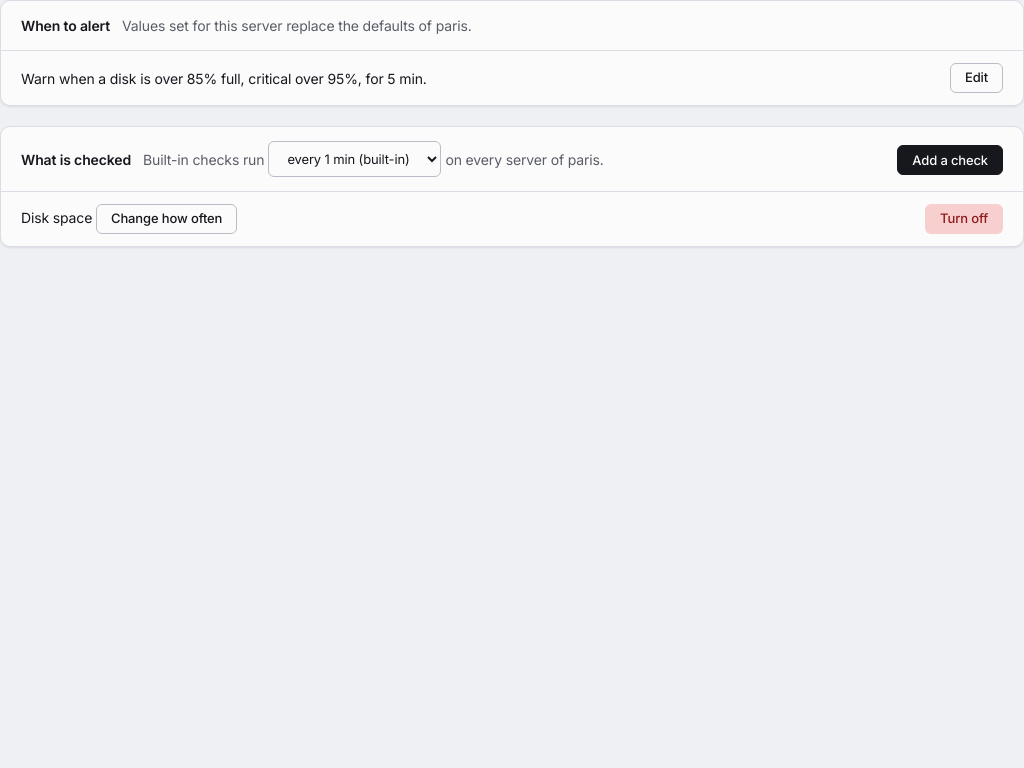
Test: MonitoringSettings › runs a website check from a relay when the form says so
The image size is (1024, 768).
Step 1. Click the button "Add a check" → click(950, 160), box [897,145,1003,175]
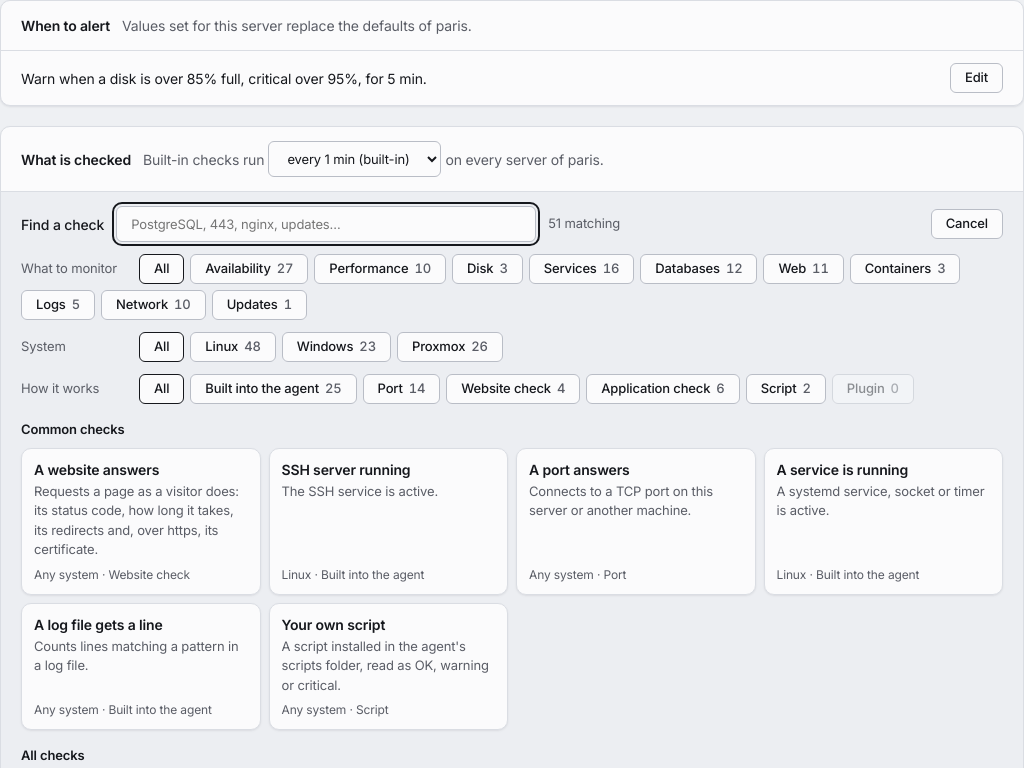
Step 2. Type "website" into the search field labelled "Find a check" → (326, 224), box [116,206,536,242]
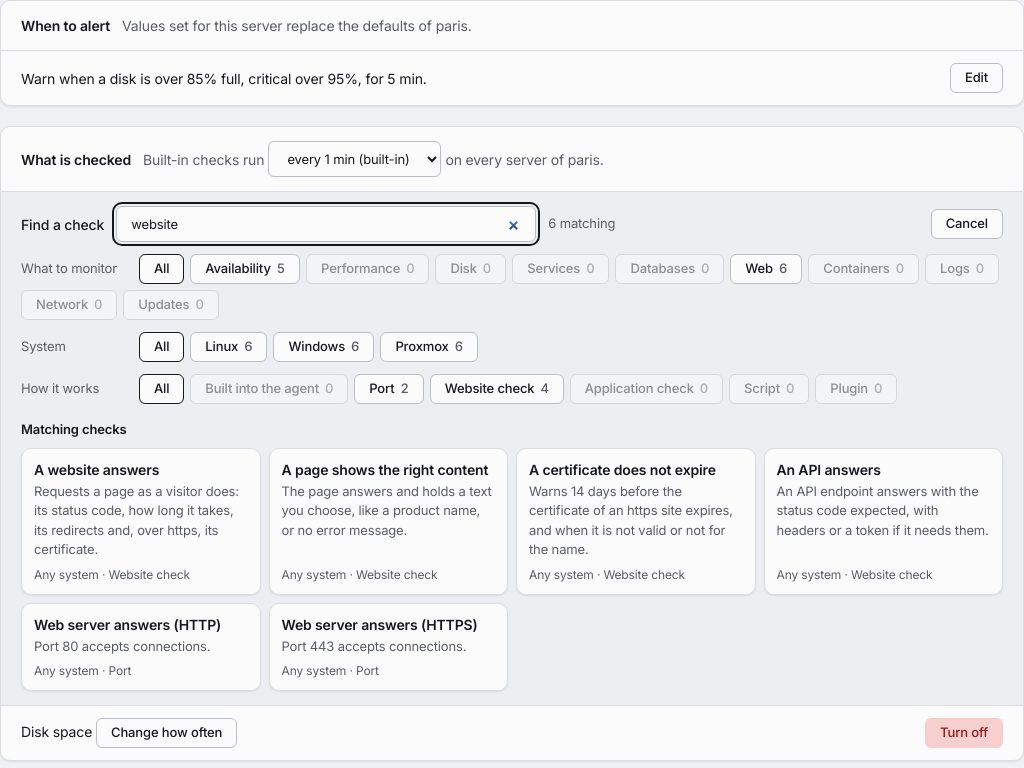
Step 3. Click the button "A website answers" → click(141, 521), box [21,448,260,594]
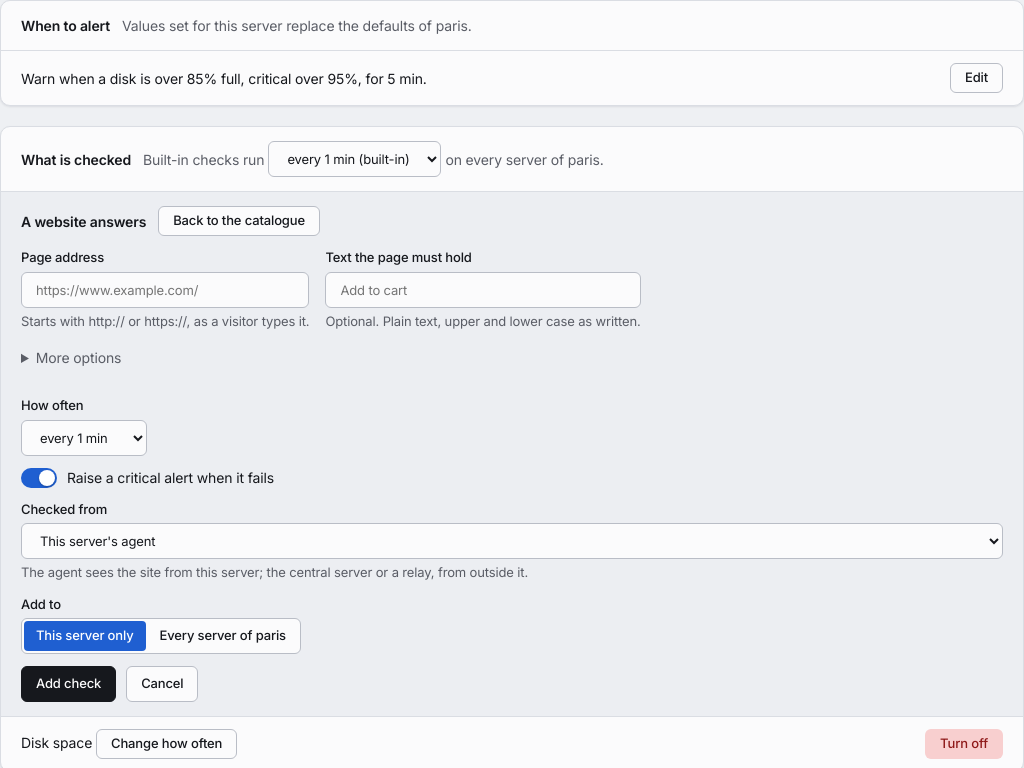
Now the dropdown labelled "Checked from" shows "This server's agent"
Now the text "Add to" is shown, box [21,594,61,618]
Step 4. Select "Relay relay-paris (recommended)" in the dropdown labelled "Checked from" → (512, 541), box [21,523,1003,559]
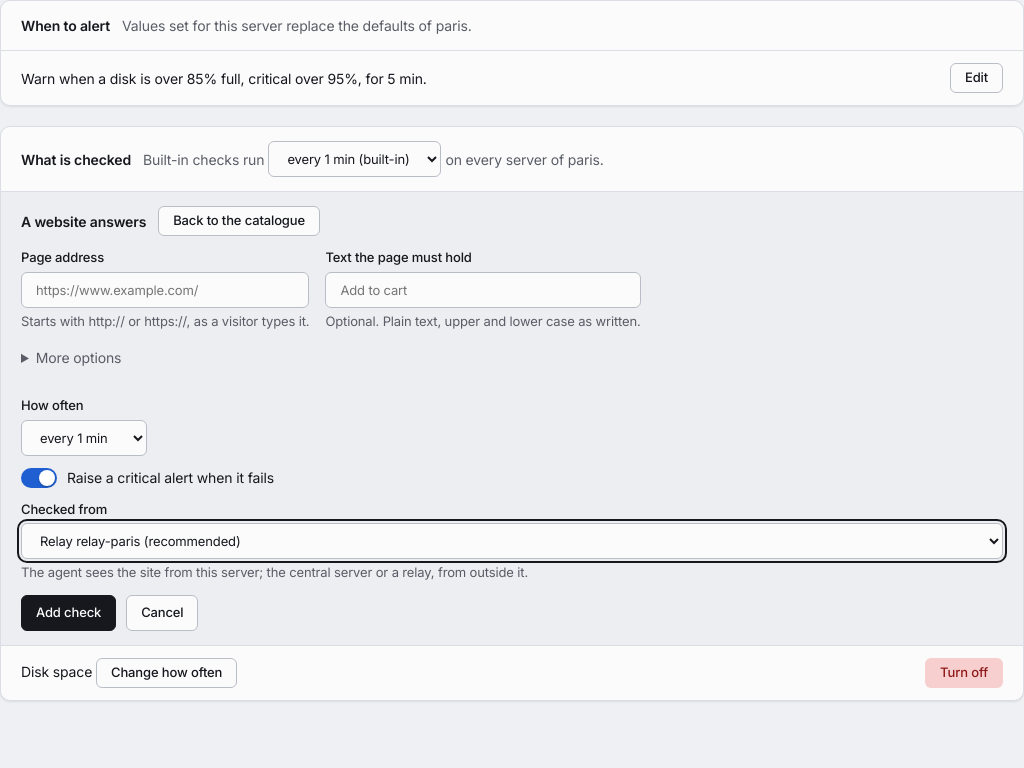
Step 5. Type "https://shop.example.com/" into the field labelled "Page address" → (165, 290), box [21,272,309,308]
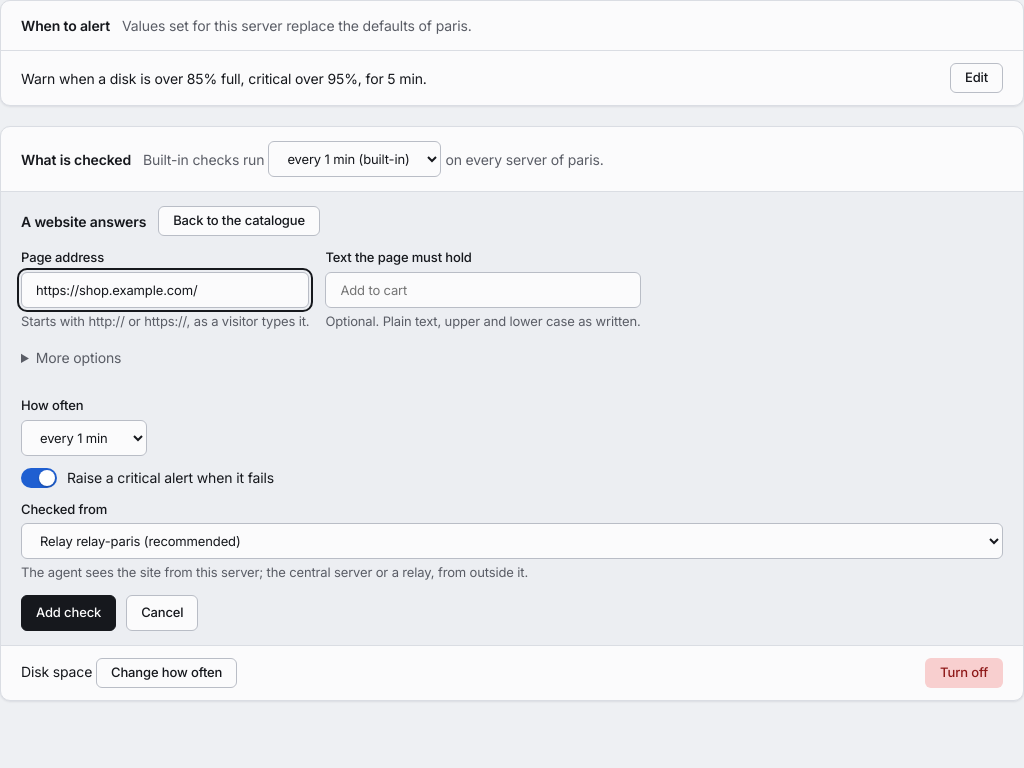
Step 6. Click the button "Add check" → click(69, 612), box [21,594,116,630]
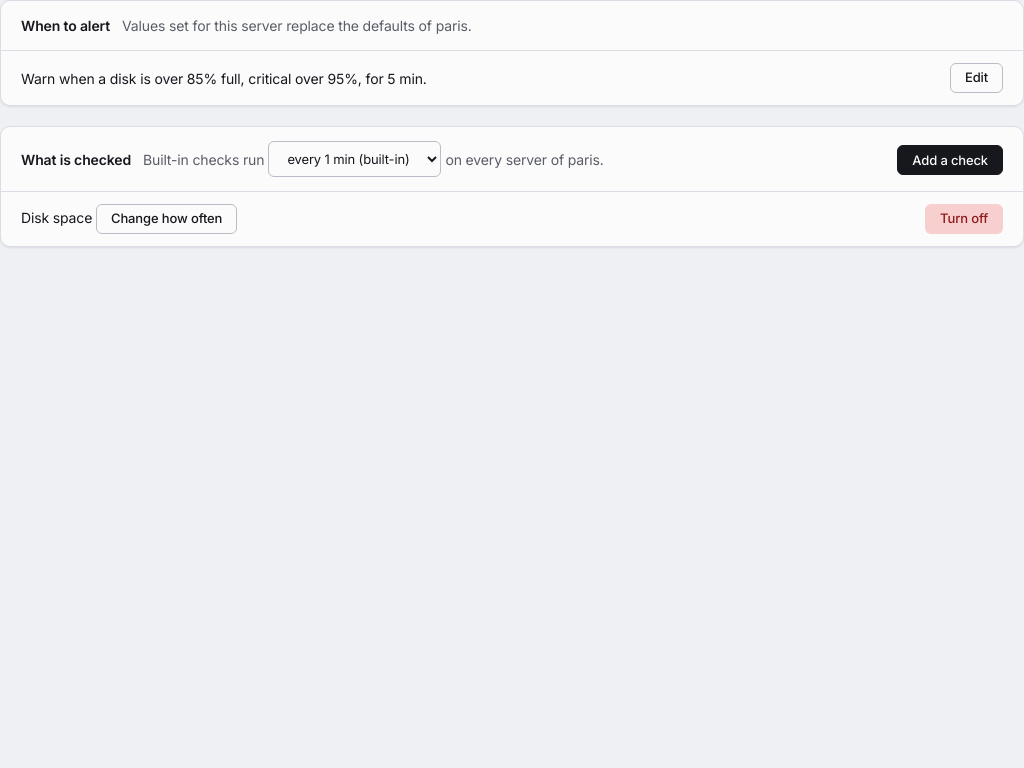
Now the button "Add a check" is shown, box [897,145,1003,175]
